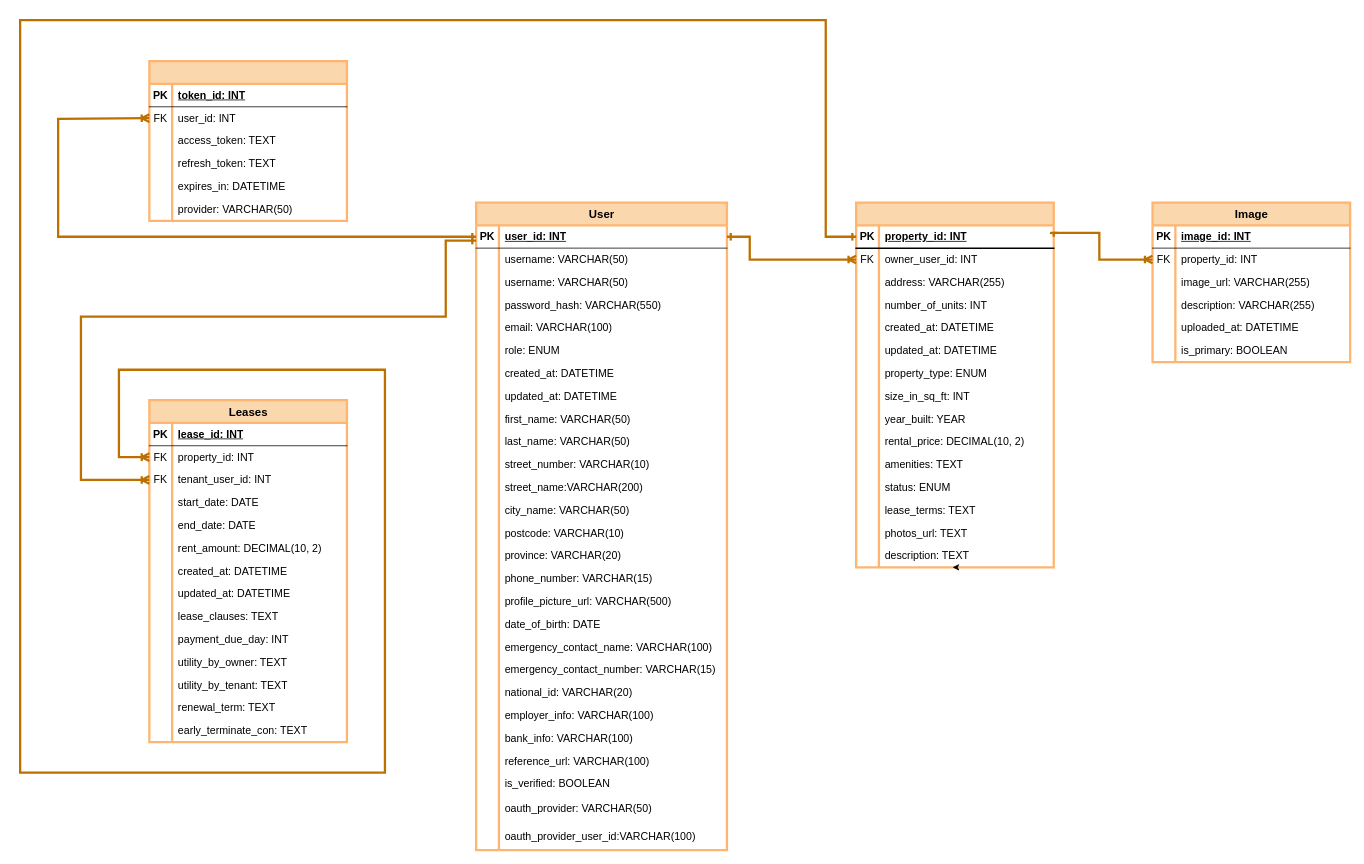
Image size: 1364x864. Some labels were removed from this diagram. Each missing label, with the box of its shape:
NewOAuthTokens: (148, 60, 348, 222)
Properties: (855, 201, 1054, 568)
